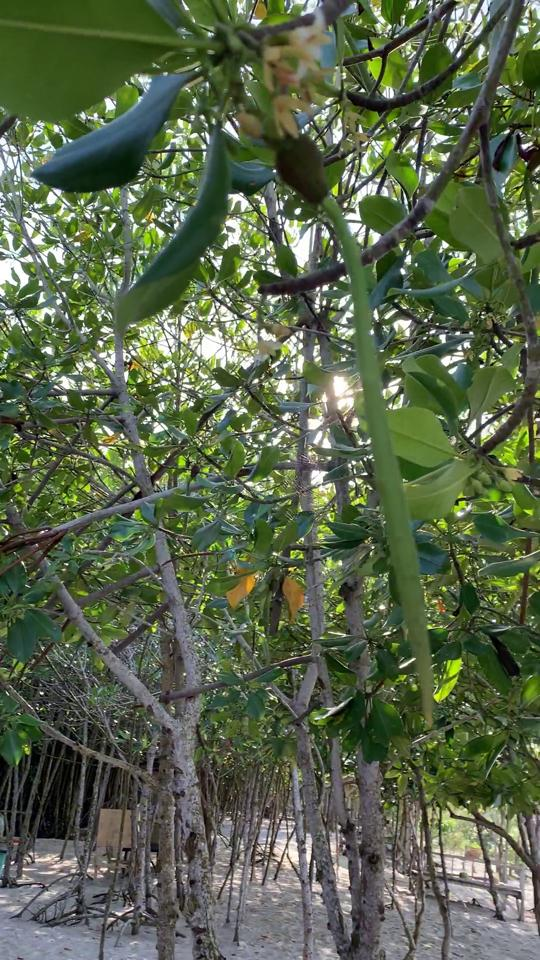mentah: (252, 121, 453, 736)
